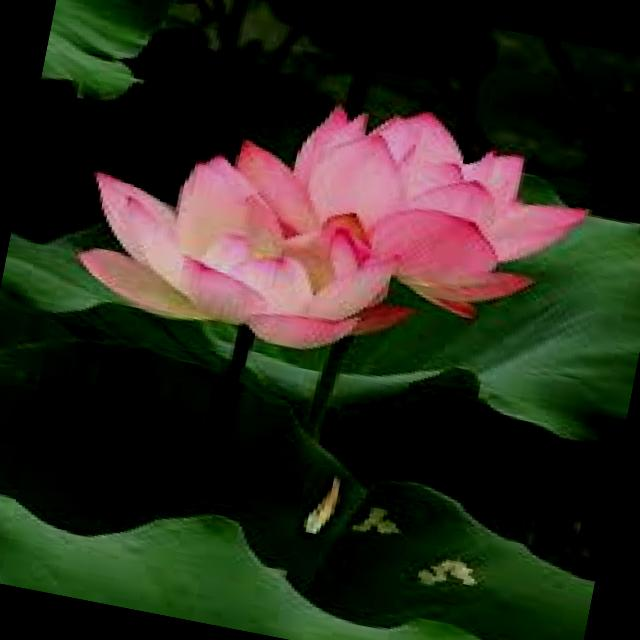lotus: (240, 50, 618, 327)
